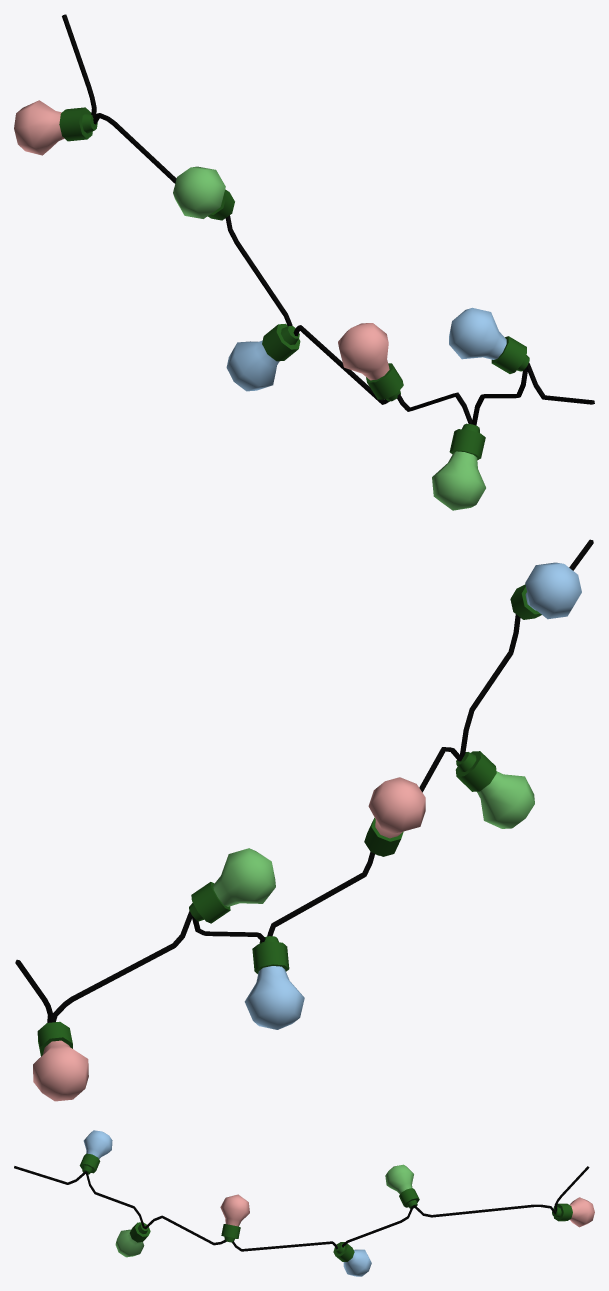
The model's file is ColorfulLights.fbx.
3 renders of one model, top to bottom at view 1: azimuth 30°, elevation 25°; view 2: azimuth 150°, elevation 25°; view 3: azimuth 270°, elevation 25°, orthographic. The views are drawn at different scales.
Visible parts, largest first — view 1: Lights; view 2: Lights; view 3: Lights.
Boxes of the visible parts, x1,y1,x2,y2 form: Lights: (14, 14, 594, 510); Lights: (15, 539, 593, 1101); Lights: (14, 1130, 594, 1276).
Size of the model in its own units: 77.24 by 264 by 990.
